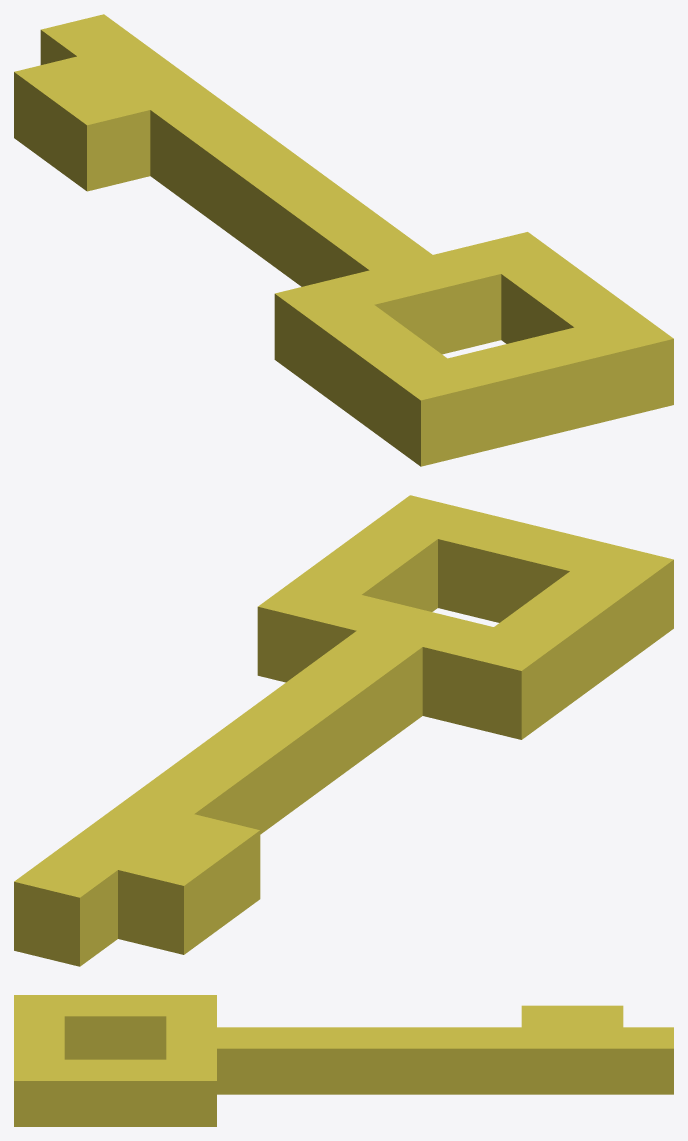
Rendered from Key_Yellow.glb.
3 views of the same model, one above another, from view 1: azimuth 30°, elevation 25°; view 2: azimuth 150°, elevation 25°; view 3: azimuth 270°, elevation 25° (orthographic). The views are drawn at different scales.
Visible parts, largest first — view 1: Mesh_Mesh_head_geo.001_lambert2SG.001; view 2: Mesh_Mesh_head_geo.001_lambert2SG.001; view 3: Mesh_Mesh_head_geo.001_lambert2SG.001.
Part boxes in pixels (x1=…): Mesh_Mesh_head_geo.001_lambert2SG.001: x1=14, y1=14, x2=673, y2=466; Mesh_Mesh_head_geo.001_lambert2SG.001: x1=14, y1=495, x2=673, y2=966; Mesh_Mesh_head_geo.001_lambert2SG.001: x1=14, y1=995, x2=673, y2=1126.
Bounding box in the file's own units: 0.2 × 0.05 × 0.65.
